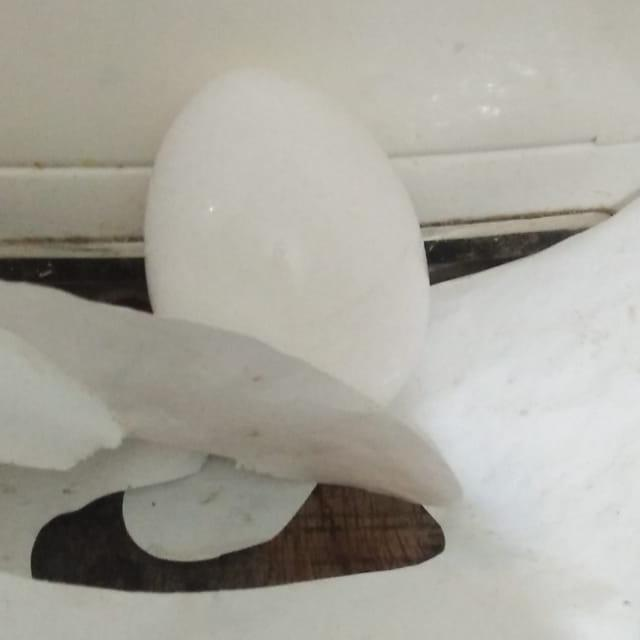egg: (140, 67, 466, 455)
